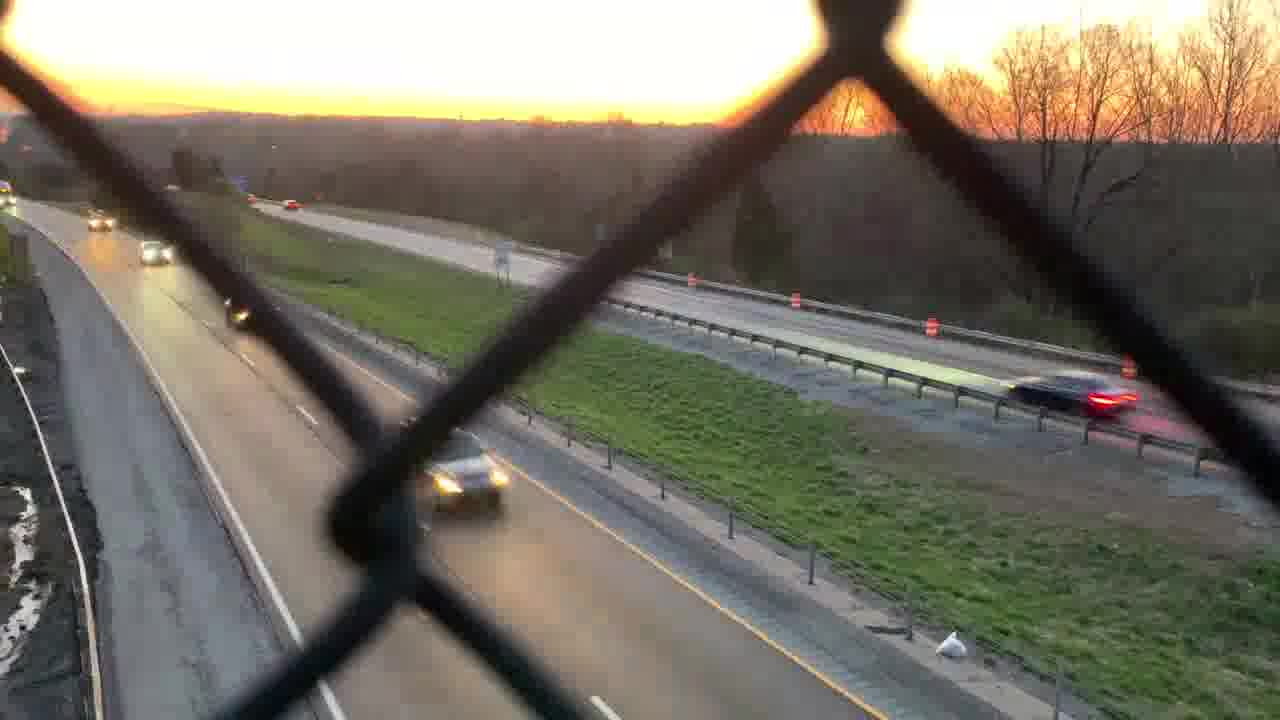heavyTruck: (1, 174, 23, 206)
largeCar: (398, 413, 511, 521)
smallCar: (1010, 373, 1145, 417)
vehicle: (139, 238, 172, 268), (85, 213, 116, 233), (280, 196, 304, 210)
